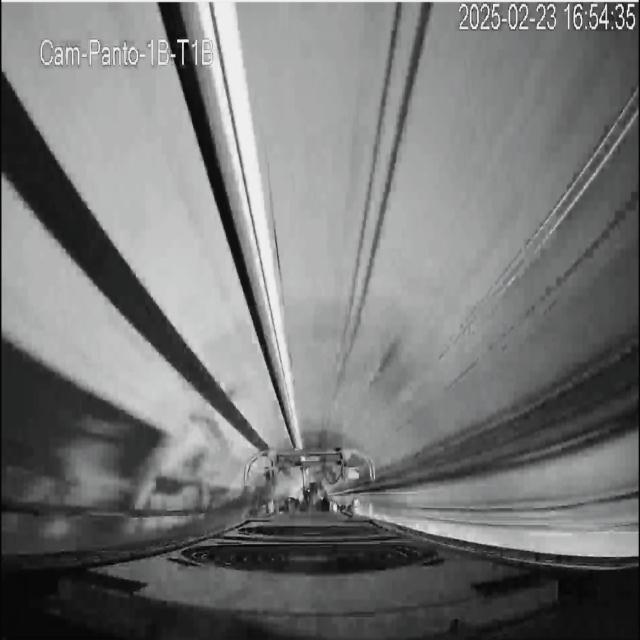Camera Stamp: (37, 31, 219, 69)
Date Stamp: (459, 3, 635, 33)
